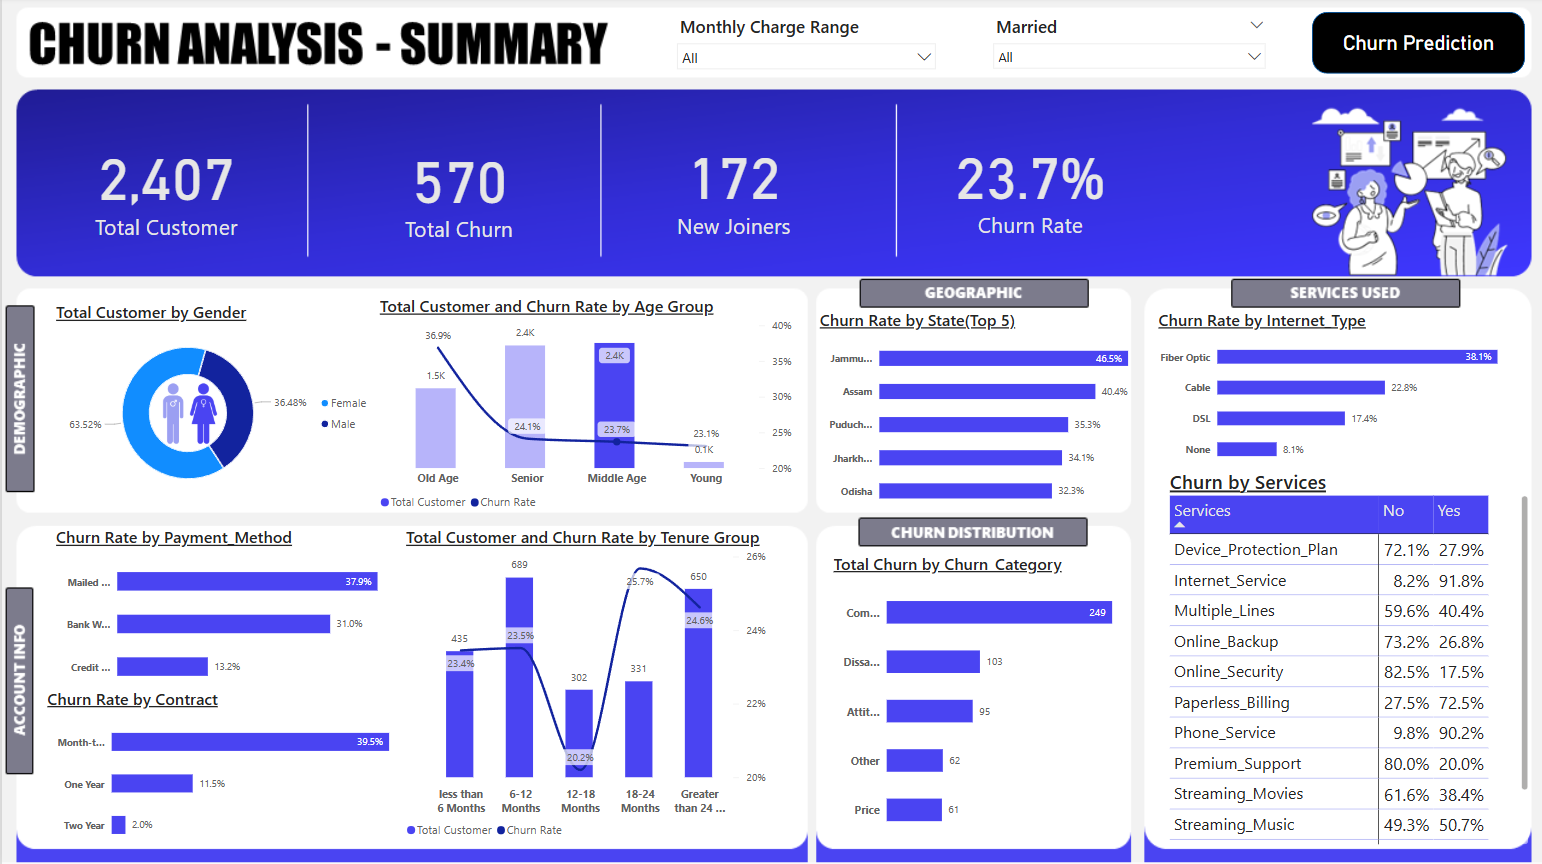

The dashboard page shown, as its layout file describes it:
{"tool":"powerbi","page":{"name":"Summary","canvas":[1920,1080],"ordinal":0},"visuals":[{"type":"card","fields":{"Values":["Tbl_Measures.Total Customer"]},"box":[22,104.4,364.6,262],"z":0},{"type":"card","fields":{"Values":["Tbl_Measures.Total Churn"]},"box":[386.6,108.1,362.7,258.3],"z":1000},{"type":"card","fields":{"Values":["Tbl_Measures.new joiners"]},"box":[688.9,95.3,443.4,278.5],"z":2000},{"type":"card","fields":{"Values":["Tbl_Measures.Churn Rate"]},"box":[1112.1,104.4,335.3,258.3],"z":3000},{"type":"image","box":[181.8,467.5,103.9,97.4],"z":4000},{"type":"donutChart","fields":{"Category":["prod_Churn.Gender"],"Y":["Tbl_Measures.Total Customer"]},"box":[50.9,363.1,427.3,281.2],"z":5000},{"type":"lineStackedColumnComboChart","fields":{"Category":["Mapping_groupAge.Age Group"],"Y":["Tbl_Measures.Total Customer"],"Y2":["Tbl_Measures.Churn Rate"]},"box":[454.3,355.7,547.1,302.9],"z":6000},{"type":"clusteredBarChart","fields":{"Category":["prod_Churn.Payment_Method"],"Y":["Tbl_Measures.Churn Rate"]},"box":[50.9,644.3,469.4,241.3],"z":7000},{"type":"clusteredBarChart","fields":{"Category":["prod_Churn.Contract"],"Y":["Tbl_Measures.Churn Rate"]},"box":[39.9,843.5,493.7,236.9],"z":8000},{"type":"lineStackedColumnComboChart","fields":{"Category":["Mapping_groupTenure.Tenure Group"],"Y":["Tbl_Measures.Total Customer"],"Y2":["Tbl_Measures.Churn Rate"]},"box":[487.1,644.3,482.7,422.9],"z":9000},{"type":"clusteredBarChart","title":"Churn Rate by State(Top 5)","fields":{"Category":["prod_Churn.State"],"Y":["Tbl_Measures.Churn Rate"]},"box":[1001.2,373.8,453.8,285],"z":10000},{"type":"clusteredBarChart","fields":{"Category":["prod_Churn.Churn_Category"],"Y":["Tbl_Measures.Total Churn"]},"box":[1017.5,676,404.5,391.9],"z":11000},{"type":"clusteredBarChart","fields":{"Category":["prod_Churn.Internet_Type"],"Y":["Tbl_Measures.Churn Rate"]},"box":[1422.5,373.8,491.2,231.2],"z":12000},{"type":"slicer","fields":{"Values":["prod_Churn.Monthly Charge Status"]},"box":[835.4,22,331.6,111.8],"z":13000},{"type":"slicer","fields":{"Values":["prod_Churn.Married"]},"box":[1228.3,21.7,348.3,83.3],"z":14000},{"type":"pivotTable","fields":{"Rows":["prod_Services.Services"],"Values":["prod_Churn.churn percentage row"]},"box":[1955,167.5,466.2,258.8],"z":15000},{"type":"pivotTable","title":"Churn by Services","fields":{"Columns":["prod_Services.Status"],"Rows":["prod_Services.Services"],"Values":["prod_Churn.churn percentage row"]},"box":[1435.6,571.6,477.8,497.5],"z":16000},{"type":"shape","box":[1628.3,18.3,265,76.7],"z":16001}]}

Visuals, with their boxes in screenshot pixels (x1, y1, x2, y2), scaled from the page's 1920x1080 canvas onto the 1542x864 screenshot:
card - Tbl_Measures.Total Customer: region(18, 84, 310, 293)
card - Tbl_Measures.Total Churn: region(310, 86, 602, 293)
card - Tbl_Measures.new joiners: region(553, 76, 909, 299)
card - Tbl_Measures.Churn Rate: region(893, 84, 1162, 290)
image: region(146, 374, 229, 452)
donutChart - prod_Churn.Gender x Tbl_Measures.Total Customer: region(41, 290, 384, 515)
lineStackedColumnComboChart - Mapping_groupAge.Age Group x Tbl_Measures.Total Customer: region(365, 285, 804, 527)
clusteredBarChart - prod_Churn.Payment_Method x Tbl_Measures.Churn Rate: region(41, 515, 418, 708)
clusteredBarChart - prod_Churn.Contract x Tbl_Measures.Churn Rate: region(32, 675, 429, 863)
lineStackedColumnComboChart - Mapping_groupTenure.Tenure Group x Tbl_Measures.Total Customer: region(391, 515, 779, 854)
"Churn Rate by State(Top 5)" clusteredBarChart: region(804, 299, 1169, 527)
clusteredBarChart - prod_Churn.Churn_Category x Tbl_Measures.Total Churn: region(817, 541, 1142, 854)
clusteredBarChart - prod_Churn.Internet_Type x Tbl_Measures.Churn Rate: region(1142, 299, 1537, 484)
slicer - prod_Churn.Monthly Charge Status: region(671, 18, 937, 107)
slicer - prod_Churn.Married: region(986, 17, 1266, 84)
"Churn by Services" pivotTable: region(1153, 457, 1537, 855)
shape: region(1308, 15, 1521, 76)
